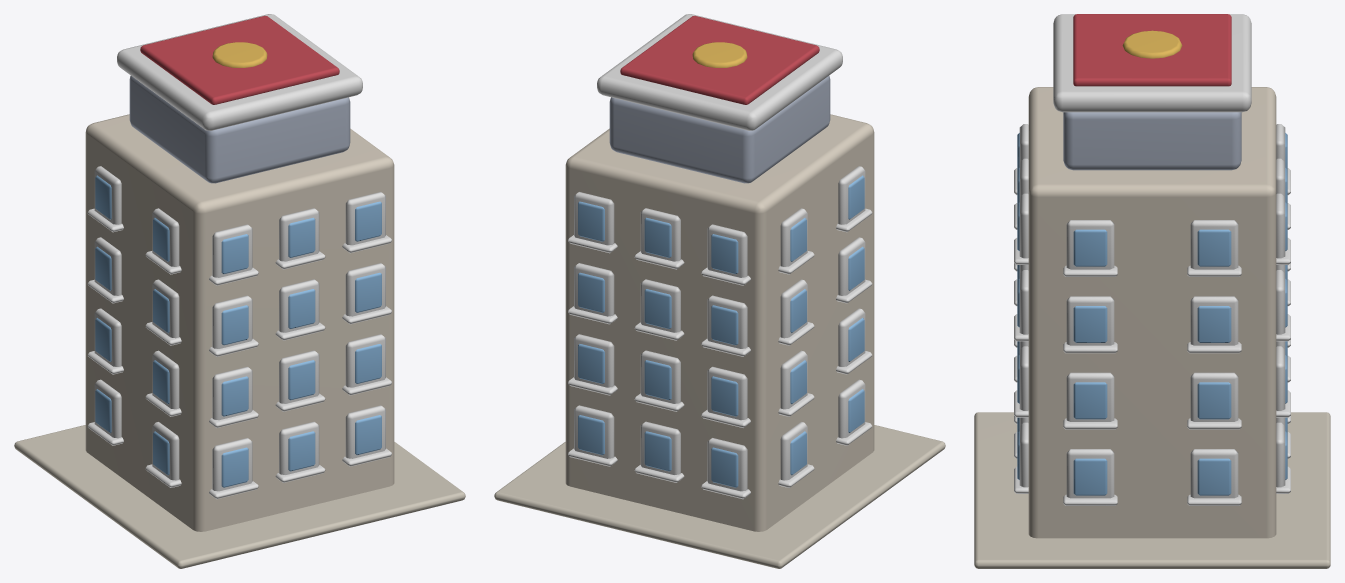
3 renders of one model, left to right at view 1: azimuth 30°, elevation 25°; view 2: azimuth 150°, elevation 25°; view 3: azimuth 270°, elevation 25°, orthographic. The views are drawn at different scales.
Visible parts, largest first — view 1: Cube; view 2: Cube; view 3: Cube.
Boxes of the visible parts, box(x1,y1,x2,y2) form: Cube: box(14, 14, 465, 568); Cube: box(494, 14, 945, 568); Cube: box(974, 14, 1330, 568).
Bounding box in the file's own units: 0.72 × 1.01 × 0.72.
